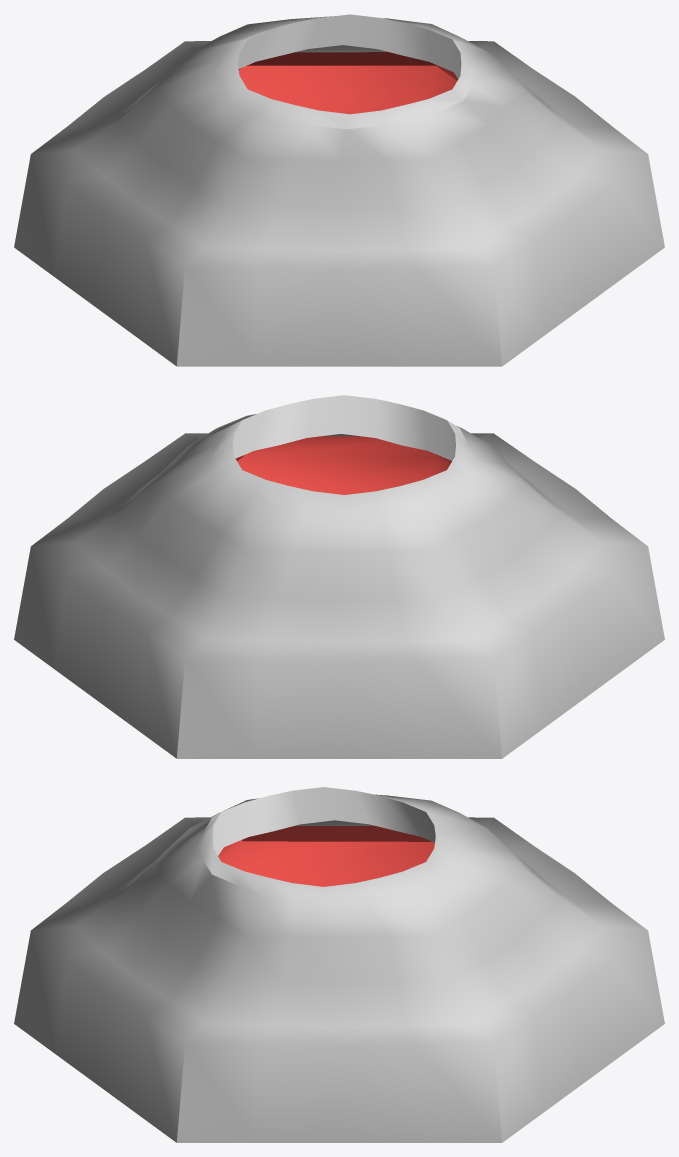
The model's file is cell1.fbx.
3 renders of one model, top to bottom at view 1: azimuth 30°, elevation 25°; view 2: azimuth 150°, elevation 25°; view 3: azimuth 270°, elevation 25°, orthographic.
Visible parts, largest first — view 1: Sphere.002; view 2: Sphere.002; view 3: Sphere.002.
Part boxes in pixels (x1,y1,x2,y2): Sphere.002: (14, 14, 664, 366); Sphere.002: (14, 395, 664, 758); Sphere.002: (14, 787, 664, 1142).
Bounding box in the file's own units: 173 × 63.86 × 200.
